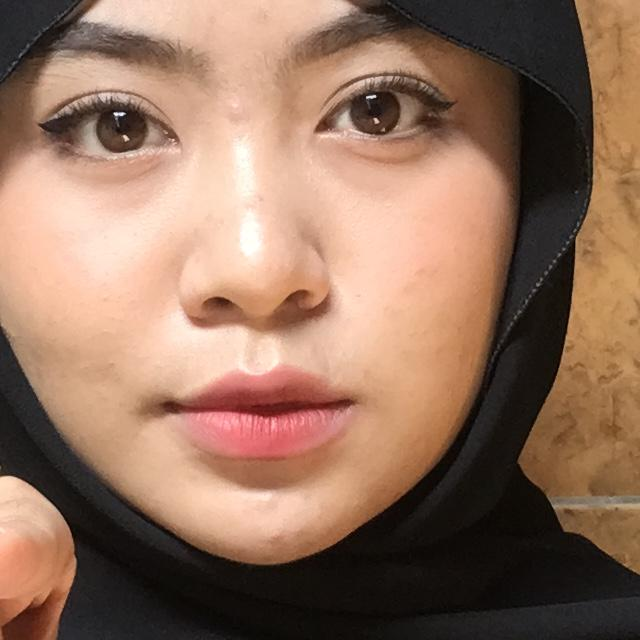kamu: (0, 376, 330, 640)
